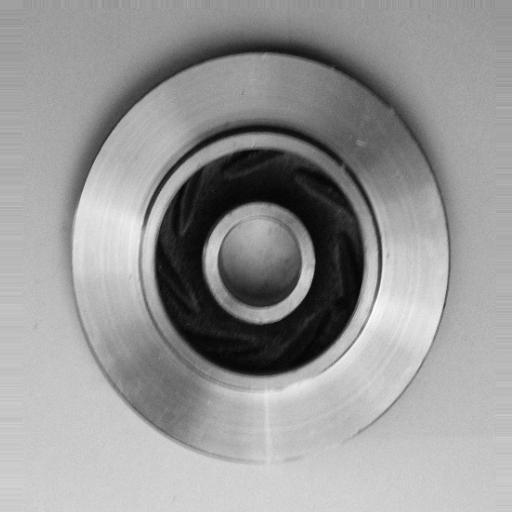unpolished_casting: (68, 44, 451, 467)
